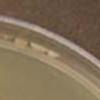white: (29, 40, 48, 57), (44, 48, 62, 62), (13, 36, 29, 50)
